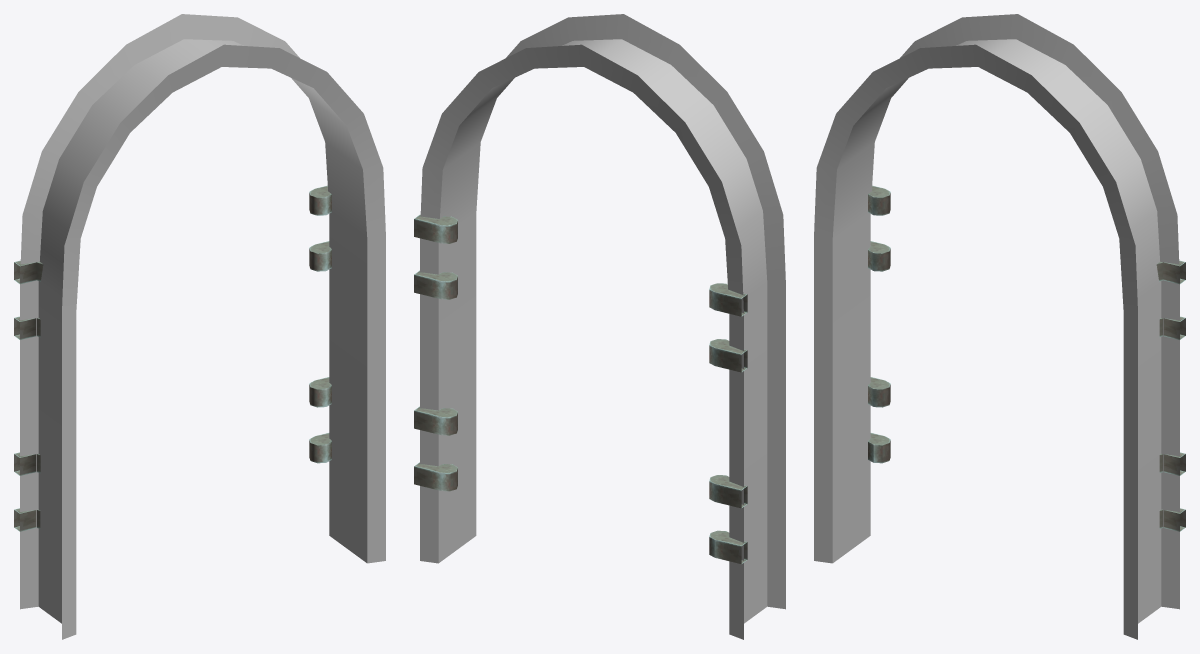
File: FP_Door_01.FBX
The picture shows the model from 3 angles, left to right: view 1: azimuth 30°, elevation 25°; view 2: azimuth 150°, elevation 25°; view 3: azimuth 330°, elevation 25°; orthographic projection.
Parts seen in each view (by area): view 1: FP_Door_01; view 2: FP_Door_01; view 3: FP_Door_01.
Part boxes in pixels (box(x1,y1,x2,y2)): FP_Door_01: box(14, 14, 385, 639); FP_Door_01: box(414, 14, 785, 639); FP_Door_01: box(814, 14, 1185, 639).
Size of the model in its own units: 311 by 75.81 by 505.
